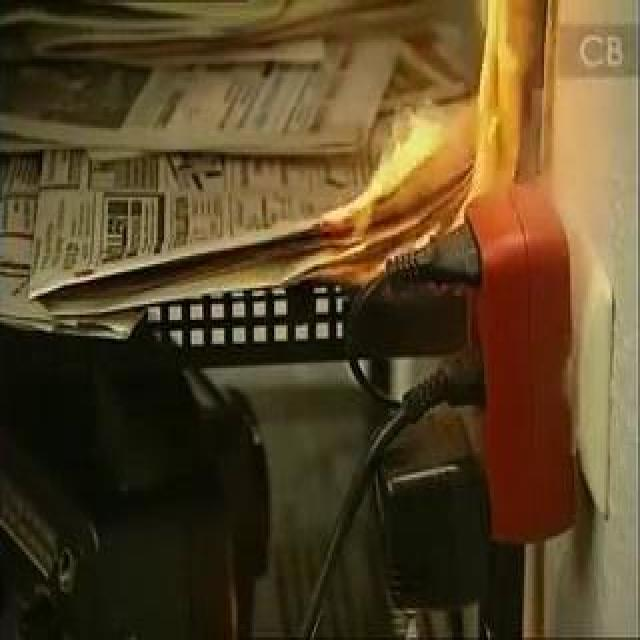Fire: (224, 2, 524, 314)
